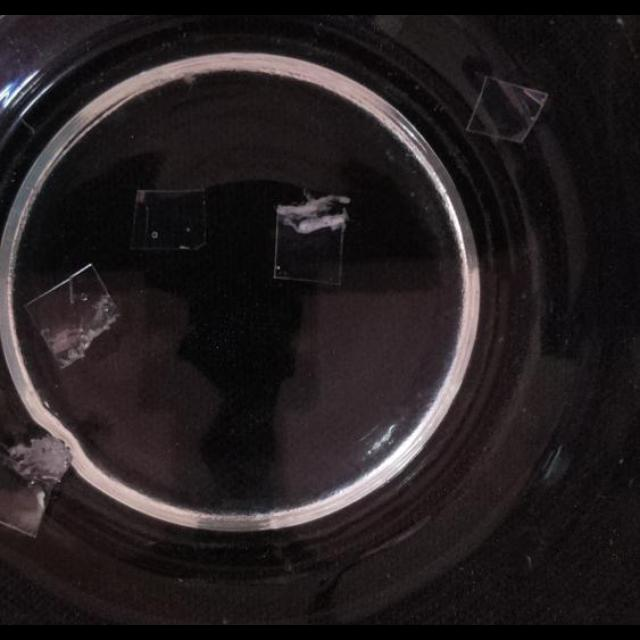Film: (20, 263, 119, 371), (273, 192, 351, 286), (2, 436, 72, 540), (464, 75, 546, 145), (128, 188, 212, 252)
